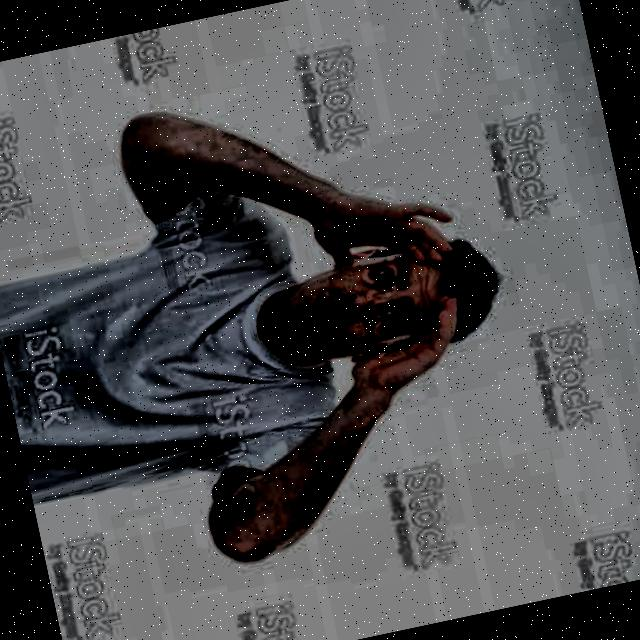fear: (239, 198, 530, 394)
